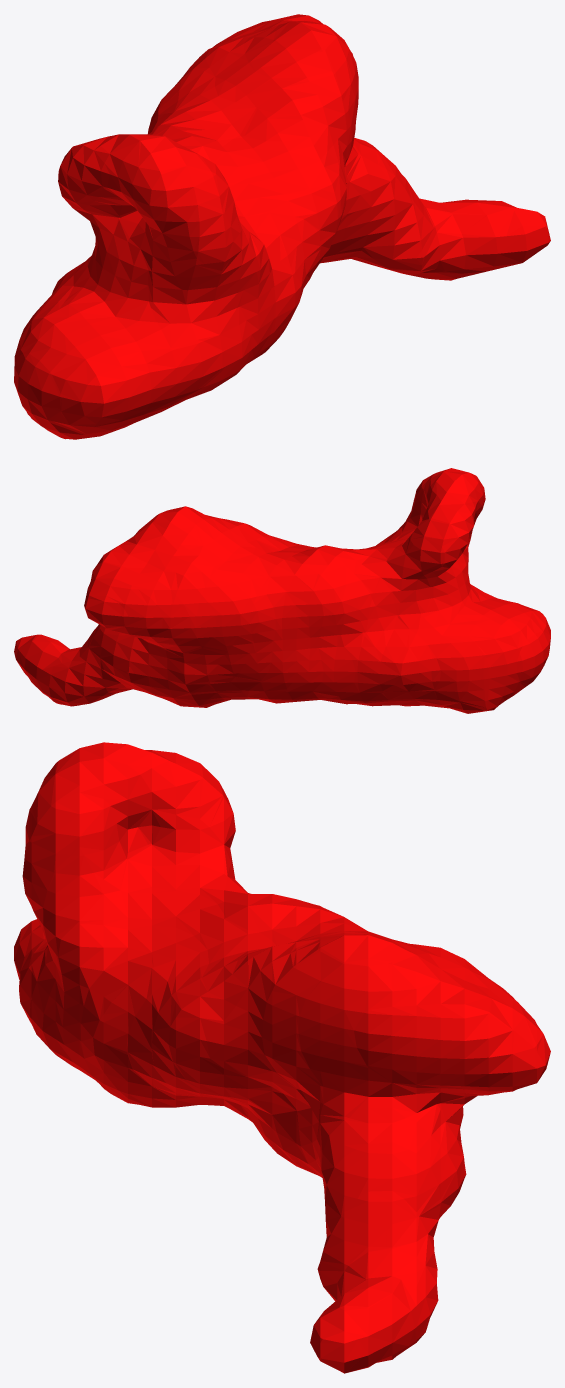
Rendered from Syntaxin_13_coarse.dae.
3 views of the same model, one above another, from view 1: azimuth 30°, elevation 25°; view 2: azimuth 150°, elevation 25°; view 3: azimuth 270°, elevation 25° (orthographic). The views are drawn at different scales.
Parts seen in each view (by area): view 1: Syntaxin_13; view 2: Syntaxin_13; view 3: Syntaxin_13.
Part boxes in pixels (left/top/right/bottom): Syntaxin_13: left=14, top=14, right=550, bottom=439; Syntaxin_13: left=14, top=468, right=550, bottom=713; Syntaxin_13: left=14, top=742, right=550, bottom=1373.
Size of the model in its own units: 76.28 by 38.35 by 49.63.
